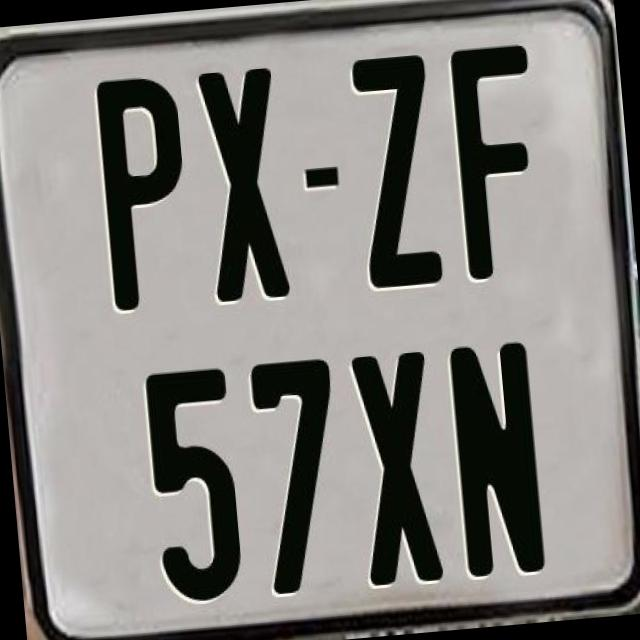5: (144, 363, 250, 601)
7: (246, 358, 348, 601)
F: (446, 40, 548, 280)
N: (448, 337, 550, 575)
P: (94, 74, 193, 311)
X: (351, 348, 451, 586), (195, 68, 289, 302)
Z: (351, 49, 446, 290)
